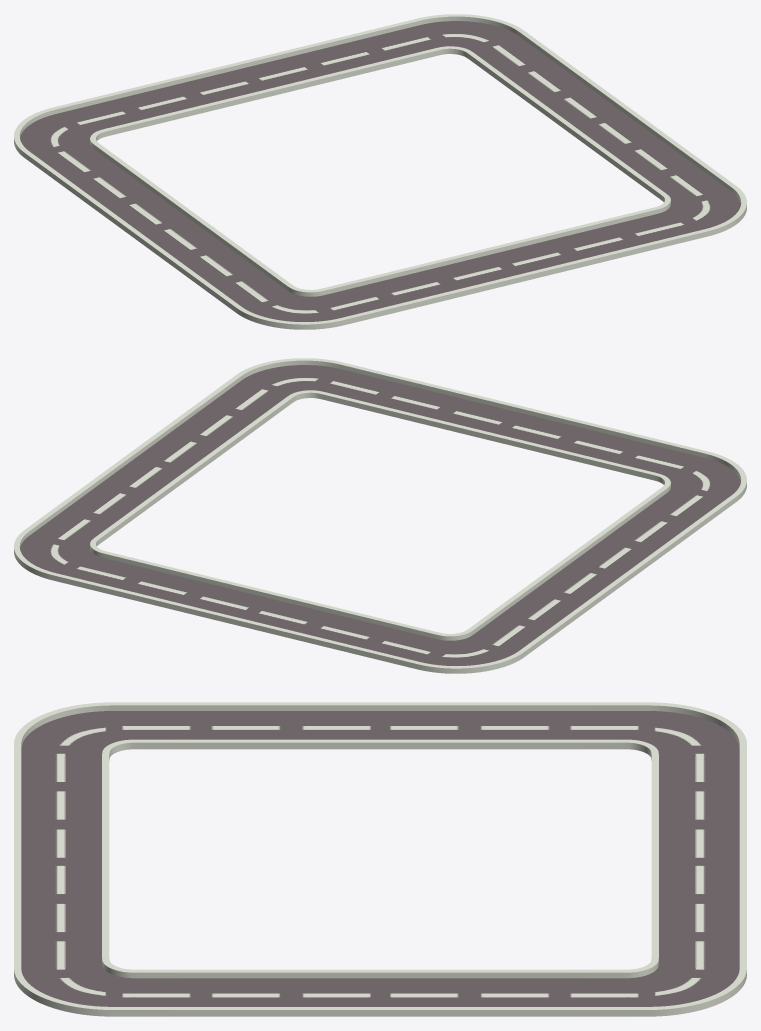
The model's file is Road_00.FBX.
3 renders of one model, top to bottom at view 1: azimuth 30°, elevation 25°; view 2: azimuth 150°, elevation 25°; view 3: azimuth 270°, elevation 25°, orthographic. The views are drawn at different scales.
Visible parts, largest first — view 1: Road_00; view 2: Road_00; view 3: Road_00.
Part boxes in pixels (x1,y1,x2,y2): Road_00: [14, 14, 746, 329]; Road_00: [14, 358, 746, 673]; Road_00: [14, 702, 746, 1016].
Size of the model in its own units: 2588 by 26.08 by 2605.
Materials: 1 (1 with a texture image).
